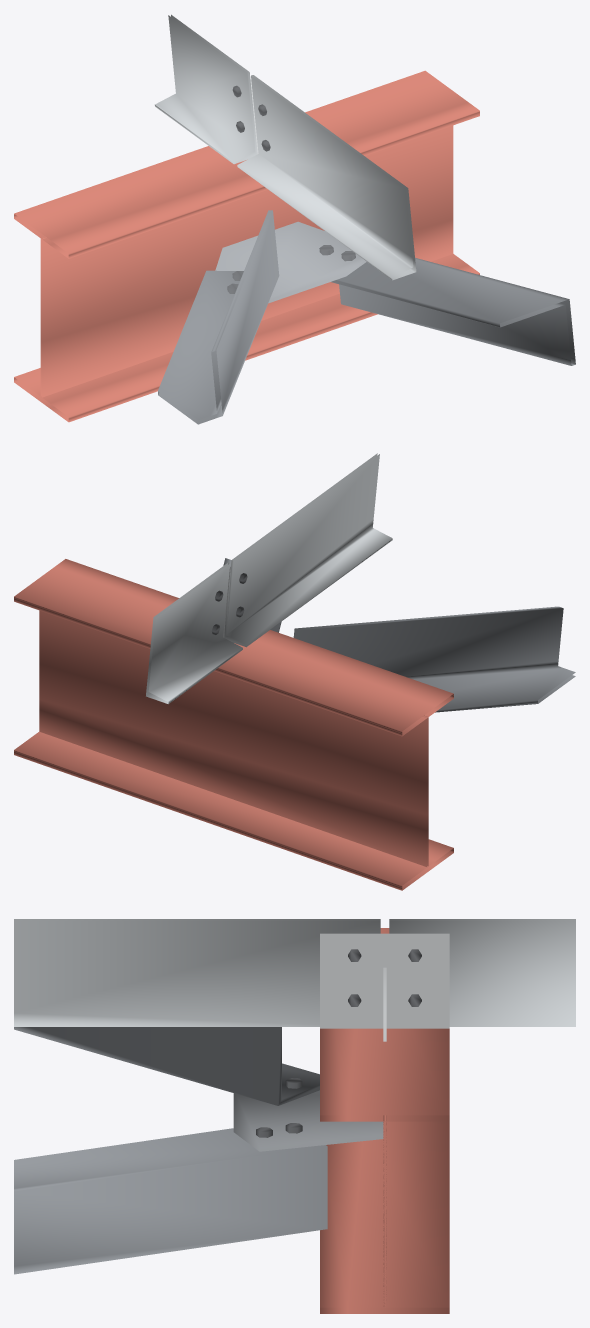
Rendered from bracing.glb.
3 renders of one model, top to bottom at view 1: azimuth 30°, elevation 25°; view 2: azimuth 150°, elevation 25°; view 3: azimuth 270°, elevation 25°, orthographic. The views are drawn at different scales.
Visible parts, largest first — view 1: frame, bracing, purlin, gusset, bolt; view 2: frame, purlin, bracing; view 3: purlin, bracing, frame, cleat, gusset, bolt.
Boxes of the visible parts, <box> form: frame: <box>14,70,479,422</box>; bracing: <box>158,210,575,424</box>; purlin: <box>155,14,416,280</box>; gusset: <box>215,221,366,303</box>; bolt: <box>227,85,355,293</box>; frame: <box>14,559,453,890</box>; purlin: <box>146,453,392,704</box>; bracing: <box>223,558,575,712</box>; purlin: <box>14,919,575,1026</box>; bracing: <box>14,1027,327,1274</box>; frame: <box>320,928,449,1313</box>; cleat: <box>320,933,449,1041</box>; gusset: <box>233,1090,383,1151</box>; bolt: <box>256,949,421,1137</box>.
Bounding box in the file's own units: 1.3 × 0.8387 × 1.3.
